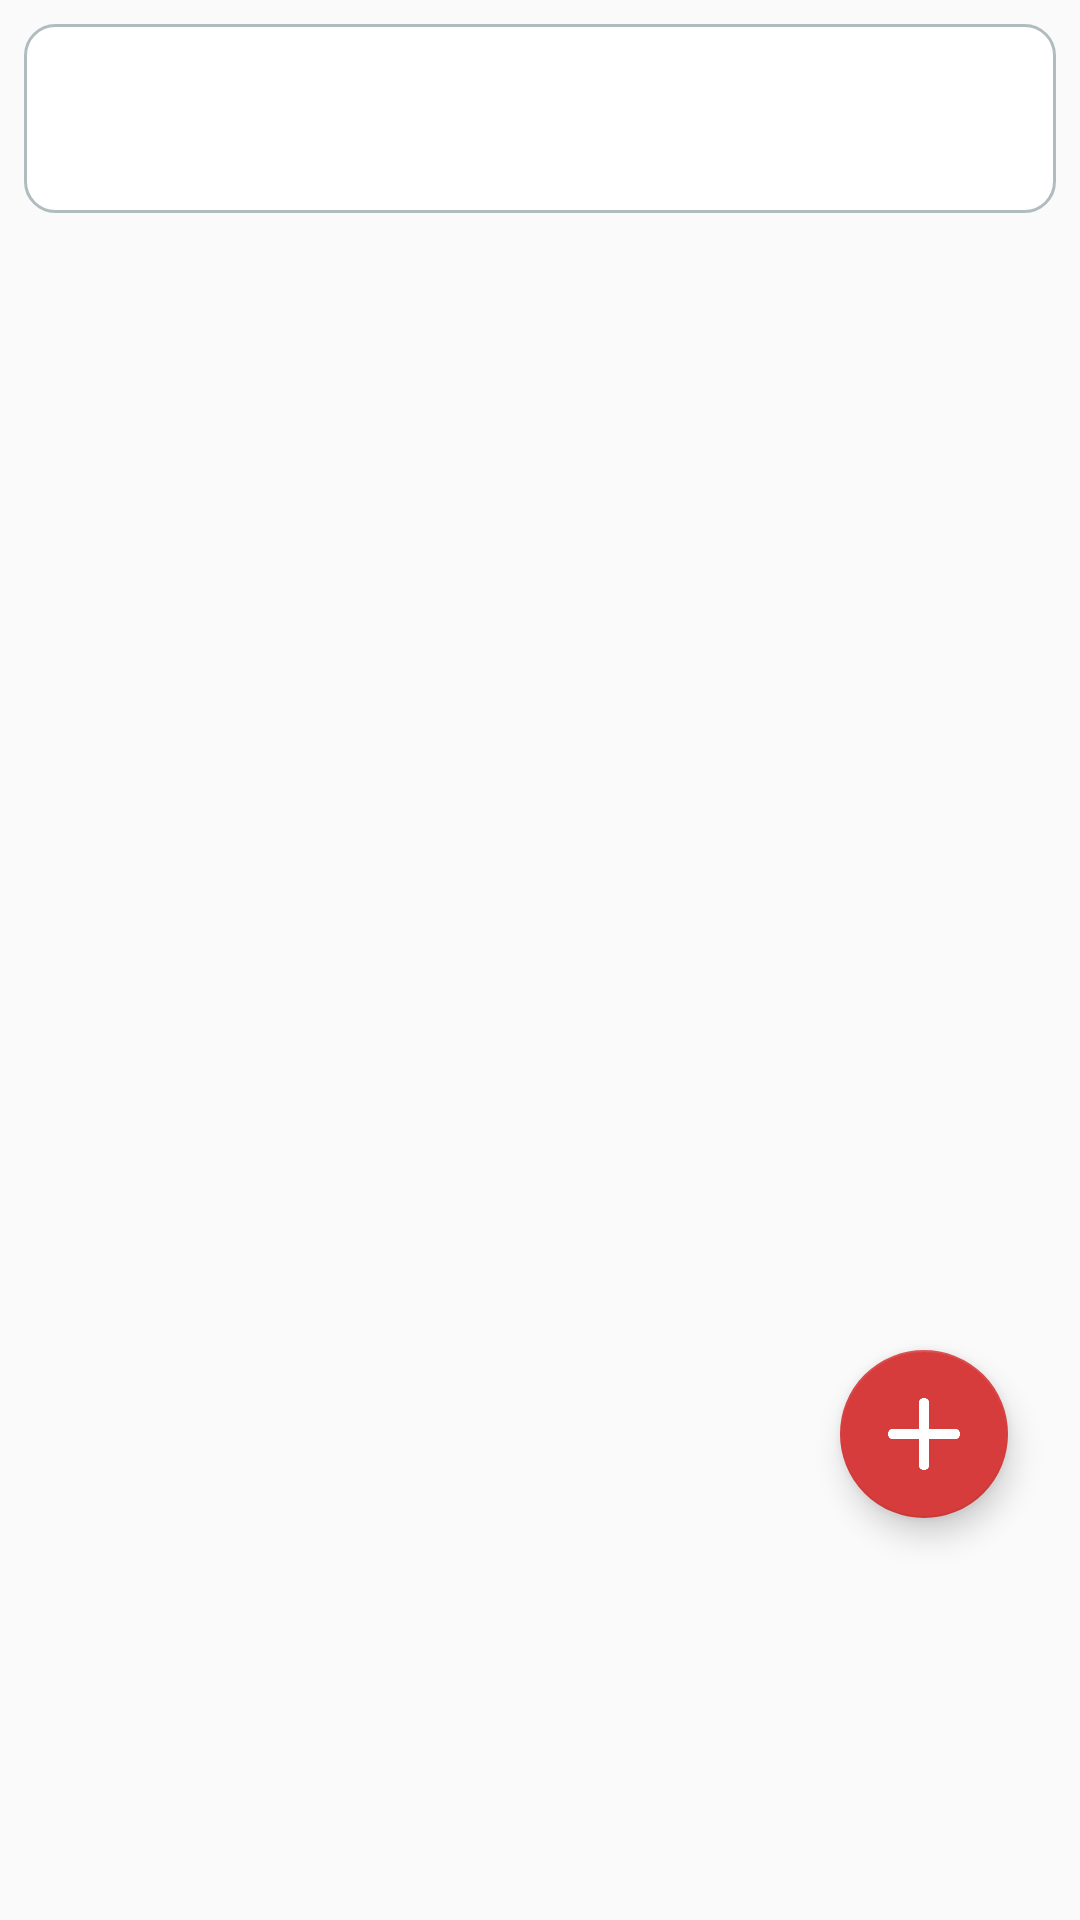

Locate icon controls on the screen. Image size 1080x1920, boxes as (x1, y1, x2, y2).
add: (840, 1350, 1008, 1518)
